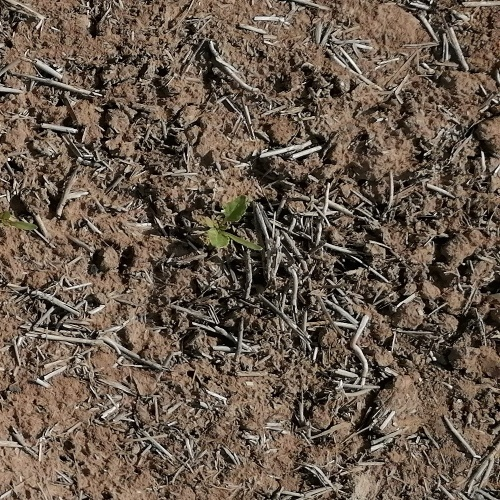beet: (206, 196, 266, 252), (0, 209, 40, 229)
